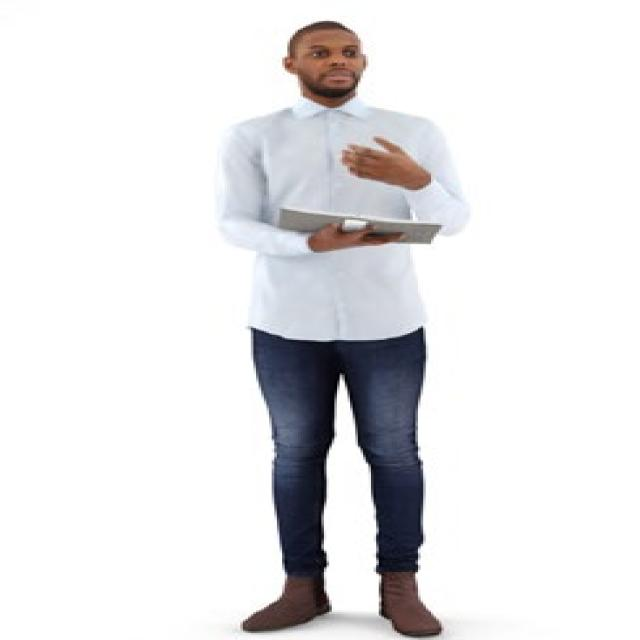standing: (214, 16, 459, 640)
